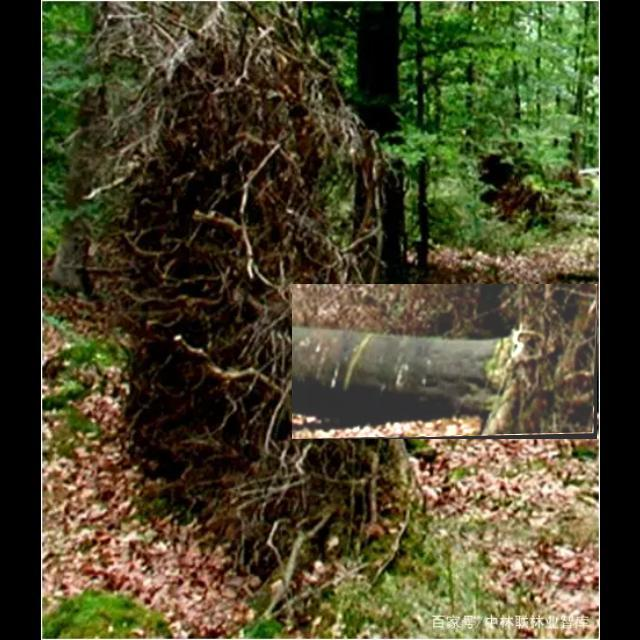fallen_tree: (292, 284, 598, 440)
